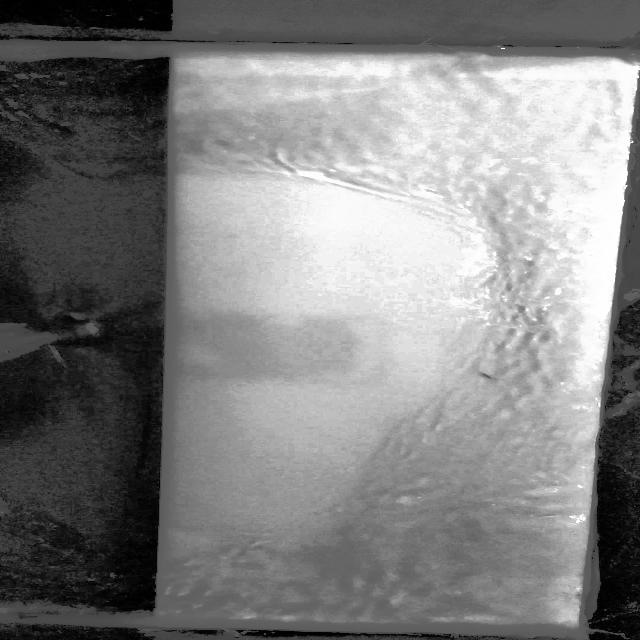shrimp: (477, 371, 500, 384)
